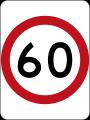Speed Limit -60-: (16, 38, 76, 82)
